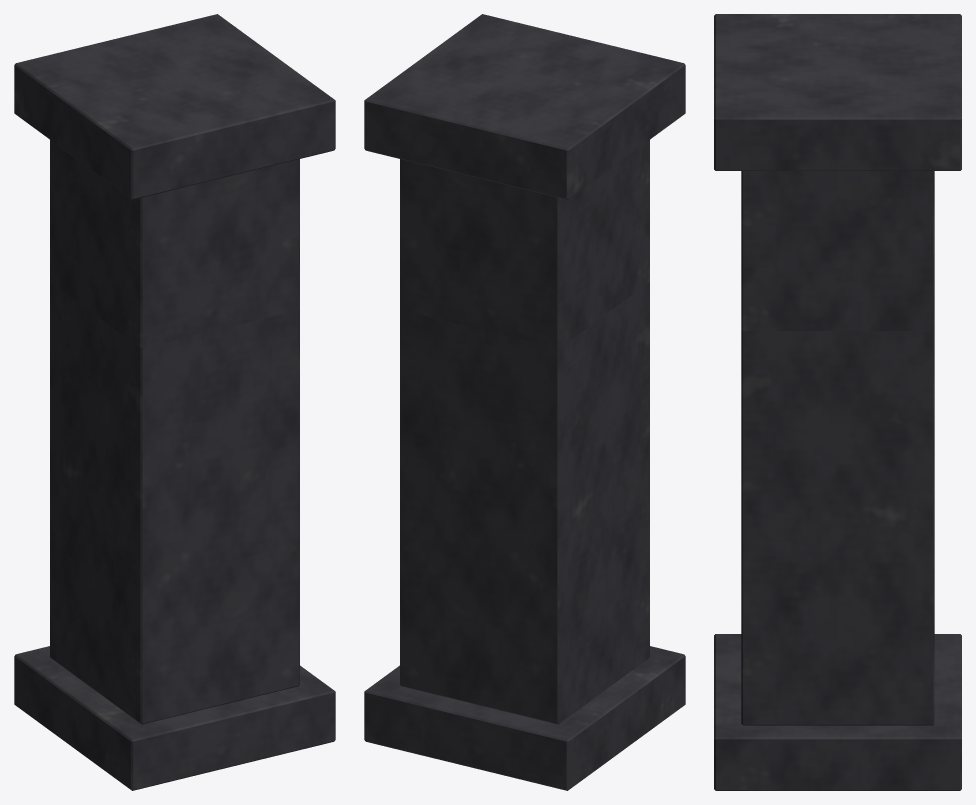
The model's file is coluna.glb.
The picture shows the model from 3 angles, left to right: view 1: azimuth 30°, elevation 25°; view 2: azimuth 150°, elevation 25°; view 3: azimuth 270°, elevation 25°; orthographic projection. The views are drawn at different scales.
Parts seen in each view (by area): view 1: coluna; view 2: coluna; view 3: coluna.
Part boxes in pixels (x1=…): coluna: x1=14, y1=14, x2=335, y2=790; coluna: x1=364, y1=14, x2=685, y2=790; coluna: x1=714, y1=14, x2=961, y2=790.
Size of the model in its own units: 1 by 3 by 1.
Materials: 1 (1 with a texture image).
